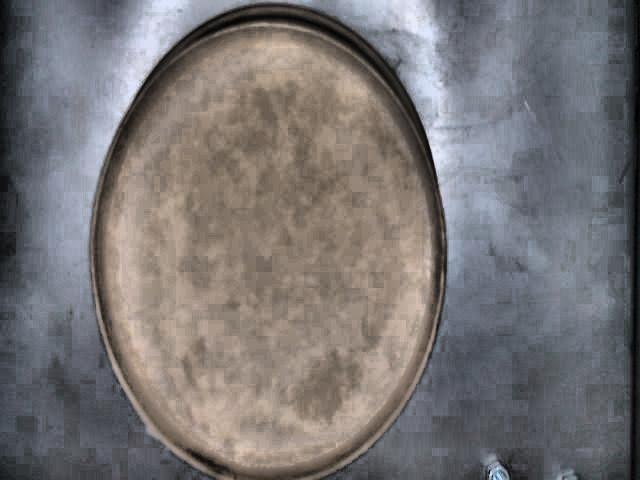Paper: (89, 1, 449, 480)
